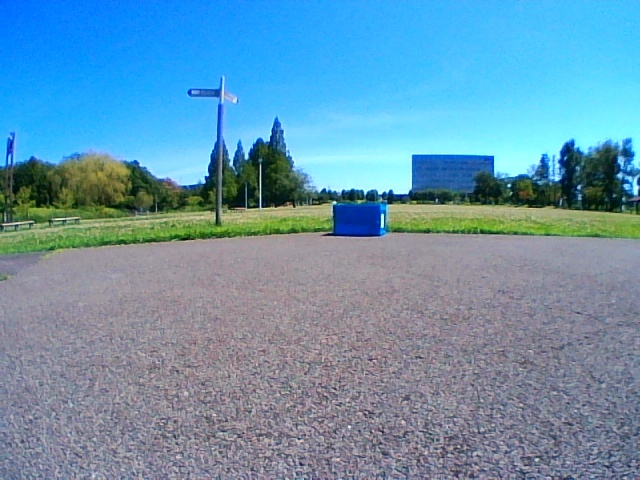blue_box: (333, 202, 385, 235)
tag: (381, 213, 384, 228)
